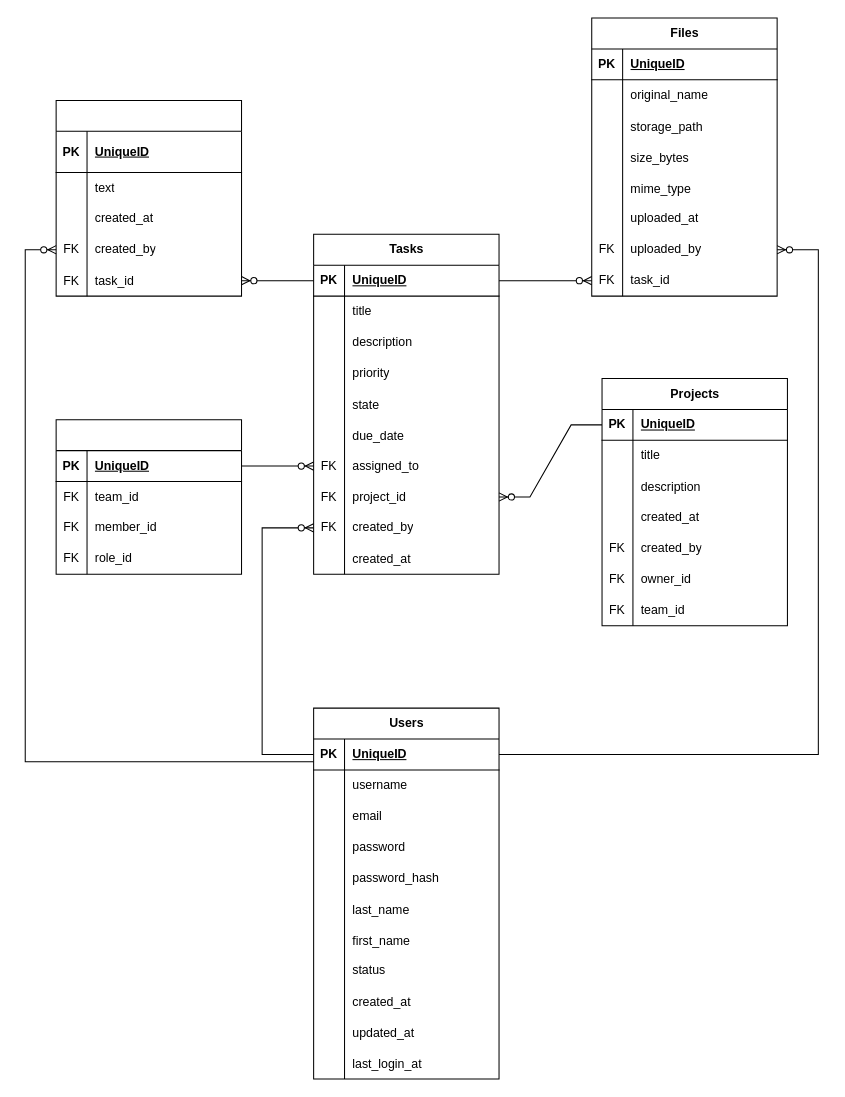
Some shapes in this 845 by 1097 pixel diagram are drawn without their labels. Here are the shapes that lost their labels. From the top down, the box of each, then its label:
(55, 99, 242, 296): Comments
(55, 419, 242, 574): Members
